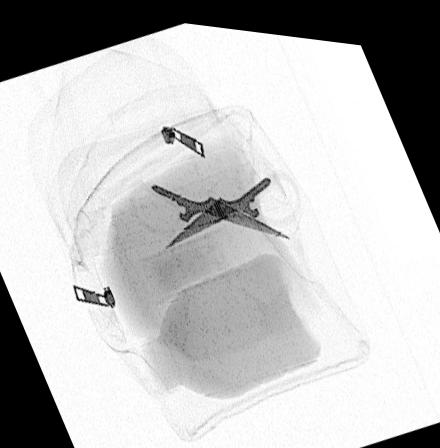Scissors: (125, 160, 304, 245)
